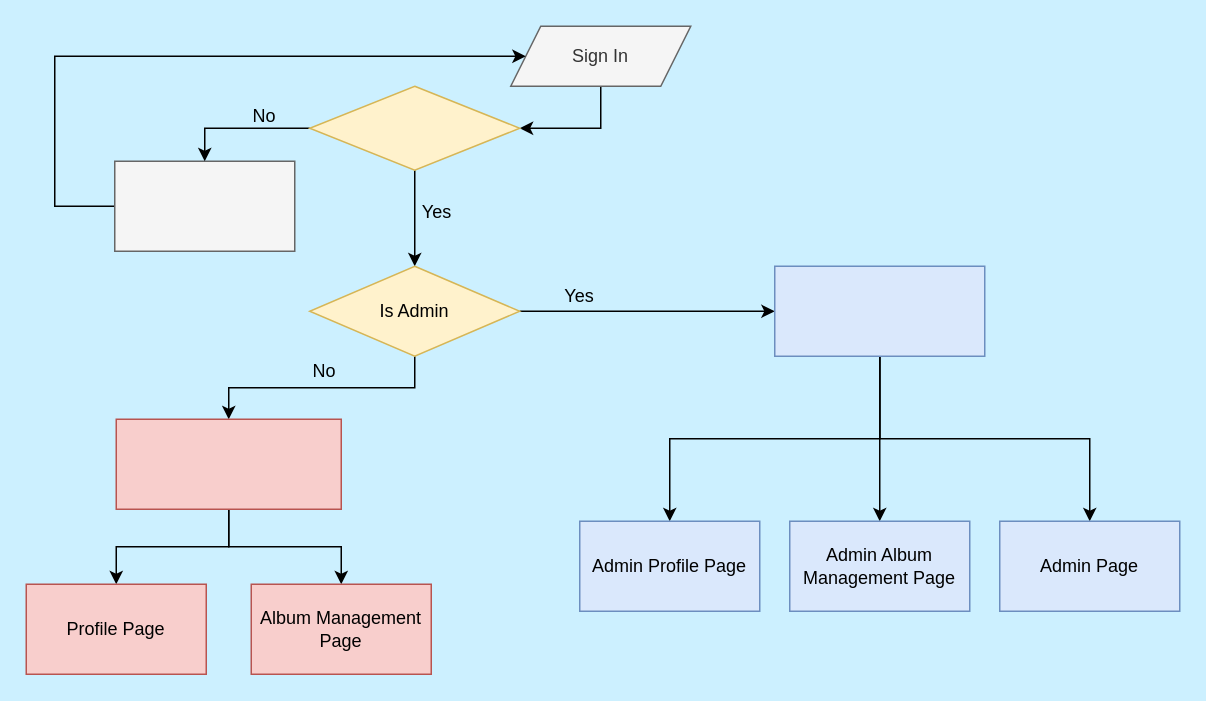
Image size: 1206x701. Some labels were removed from this diagram. The centre of each missing label's shape, as x and y in pixels:
"Go to Admin Home Page" belongs at (879,310).
"Go to User Home Page" belongs at (228,463).
"Is Existing User" belongs at (414,127).
"Sign Up" belongs at (204,205).
